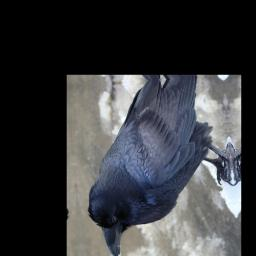Crow: (77, 76, 240, 256)
